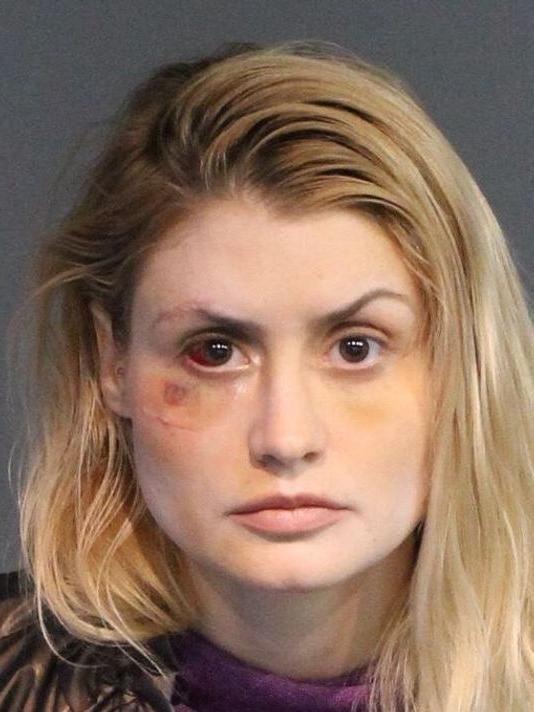Drunk: (136, 222, 434, 574)
